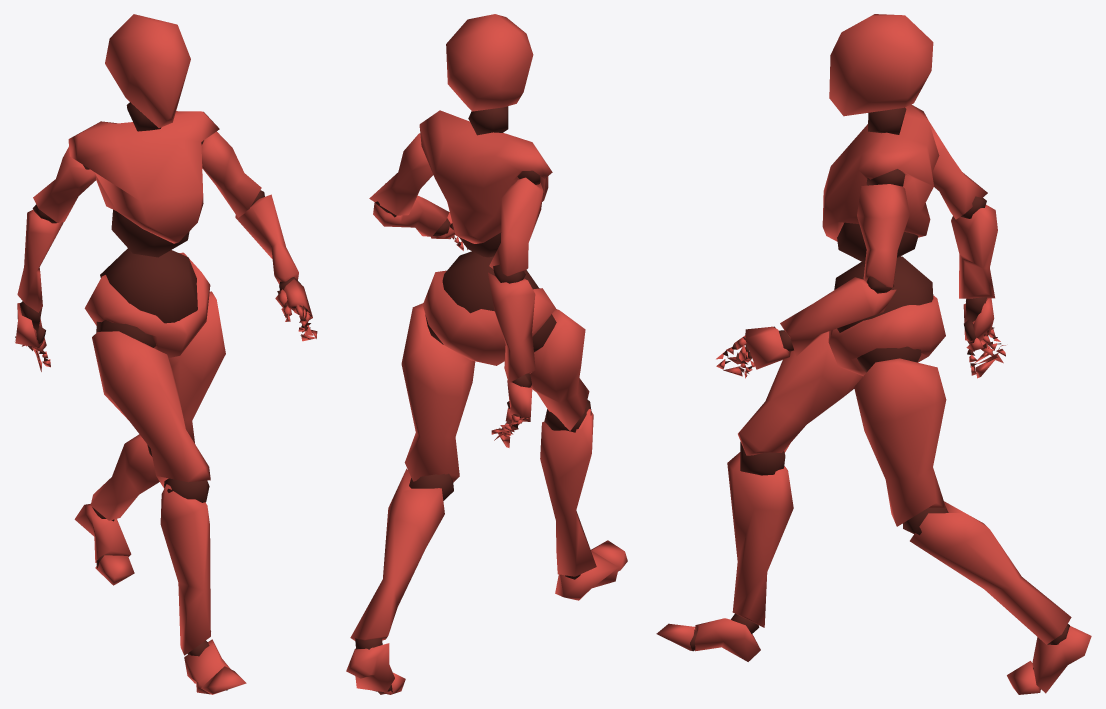
The picture shows the model from 3 angles, left to right: view 1: azimuth 30°, elevation 25°; view 2: azimuth 150°, elevation 25°; view 3: azimuth 270°, elevation 25°; orthographic projection. The views are drawn at different scales.
Visible parts, largest first — view 1: Beta_Surface; view 2: Beta_Surface; view 3: Beta_Surface.
Part boxes in pixels (x1,y1,x2,y2): Beta_Surface: (15, 14, 317, 694); Beta_Surface: (346, 14, 627, 694); Beta_Surface: (656, 14, 1091, 694).
Bounding box in the file's own units: 4.9 × 14.09 × 8.45.
